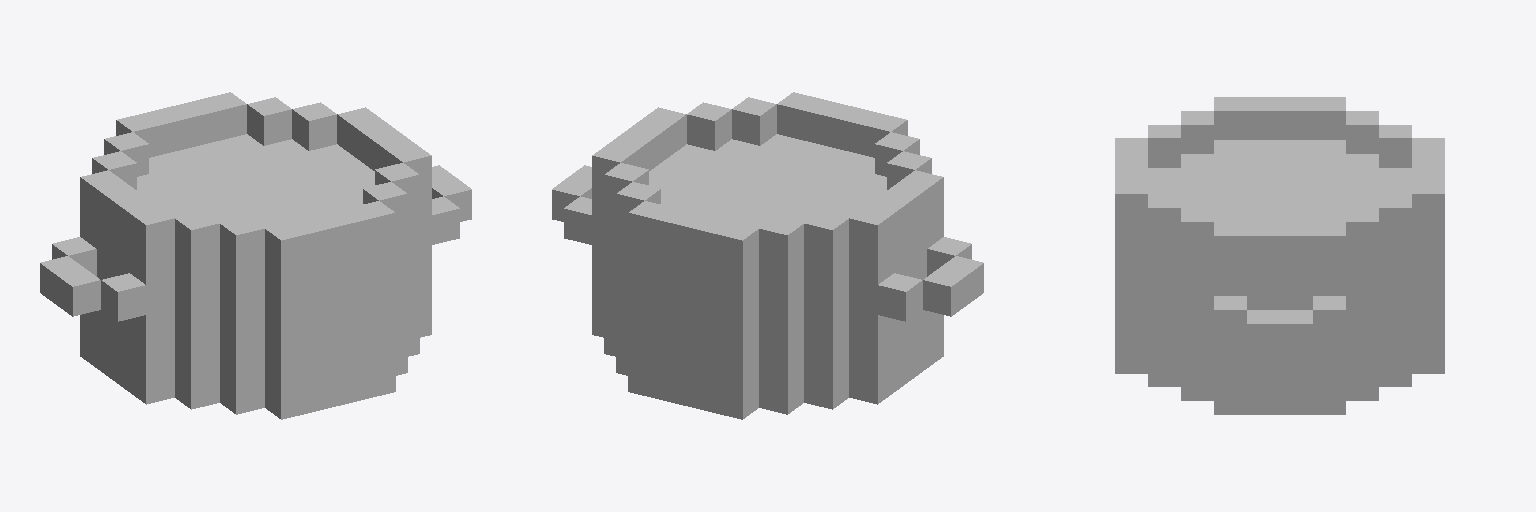
File: hardcook_cooking_pot_fill.obj
3 renders of one model, left to right at view 1: azimuth 30°, elevation 25°; view 2: azimuth 150°, elevation 25°; view 3: azimuth 270°, elevation 25°, orthographic.
Parts seen in each view (by area): view 1: node_0_0_0.006, node_0_0_0.008; view 2: node_0_0_0.006, node_0_0_0.008; view 3: node_0_0_0.006, node_0_0_0.008.
Part boxes in pixels (left/top/right/bottom): node_0_0_0.006: left=40, top=92, right=471, bottom=419; node_0_0_0.008: left=137, top=134, right=374, bottom=227; node_0_0_0.006: left=552, top=92, right=983, bottom=419; node_0_0_0.008: left=649, top=134, right=886, bottom=227; node_0_0_0.006: left=1115, top=97, right=1444, bottom=414; node_0_0_0.008: left=1148, top=140, right=1411, bottom=221.
Size of the model in its own units: 0.875 by 0.375 by 0.625.